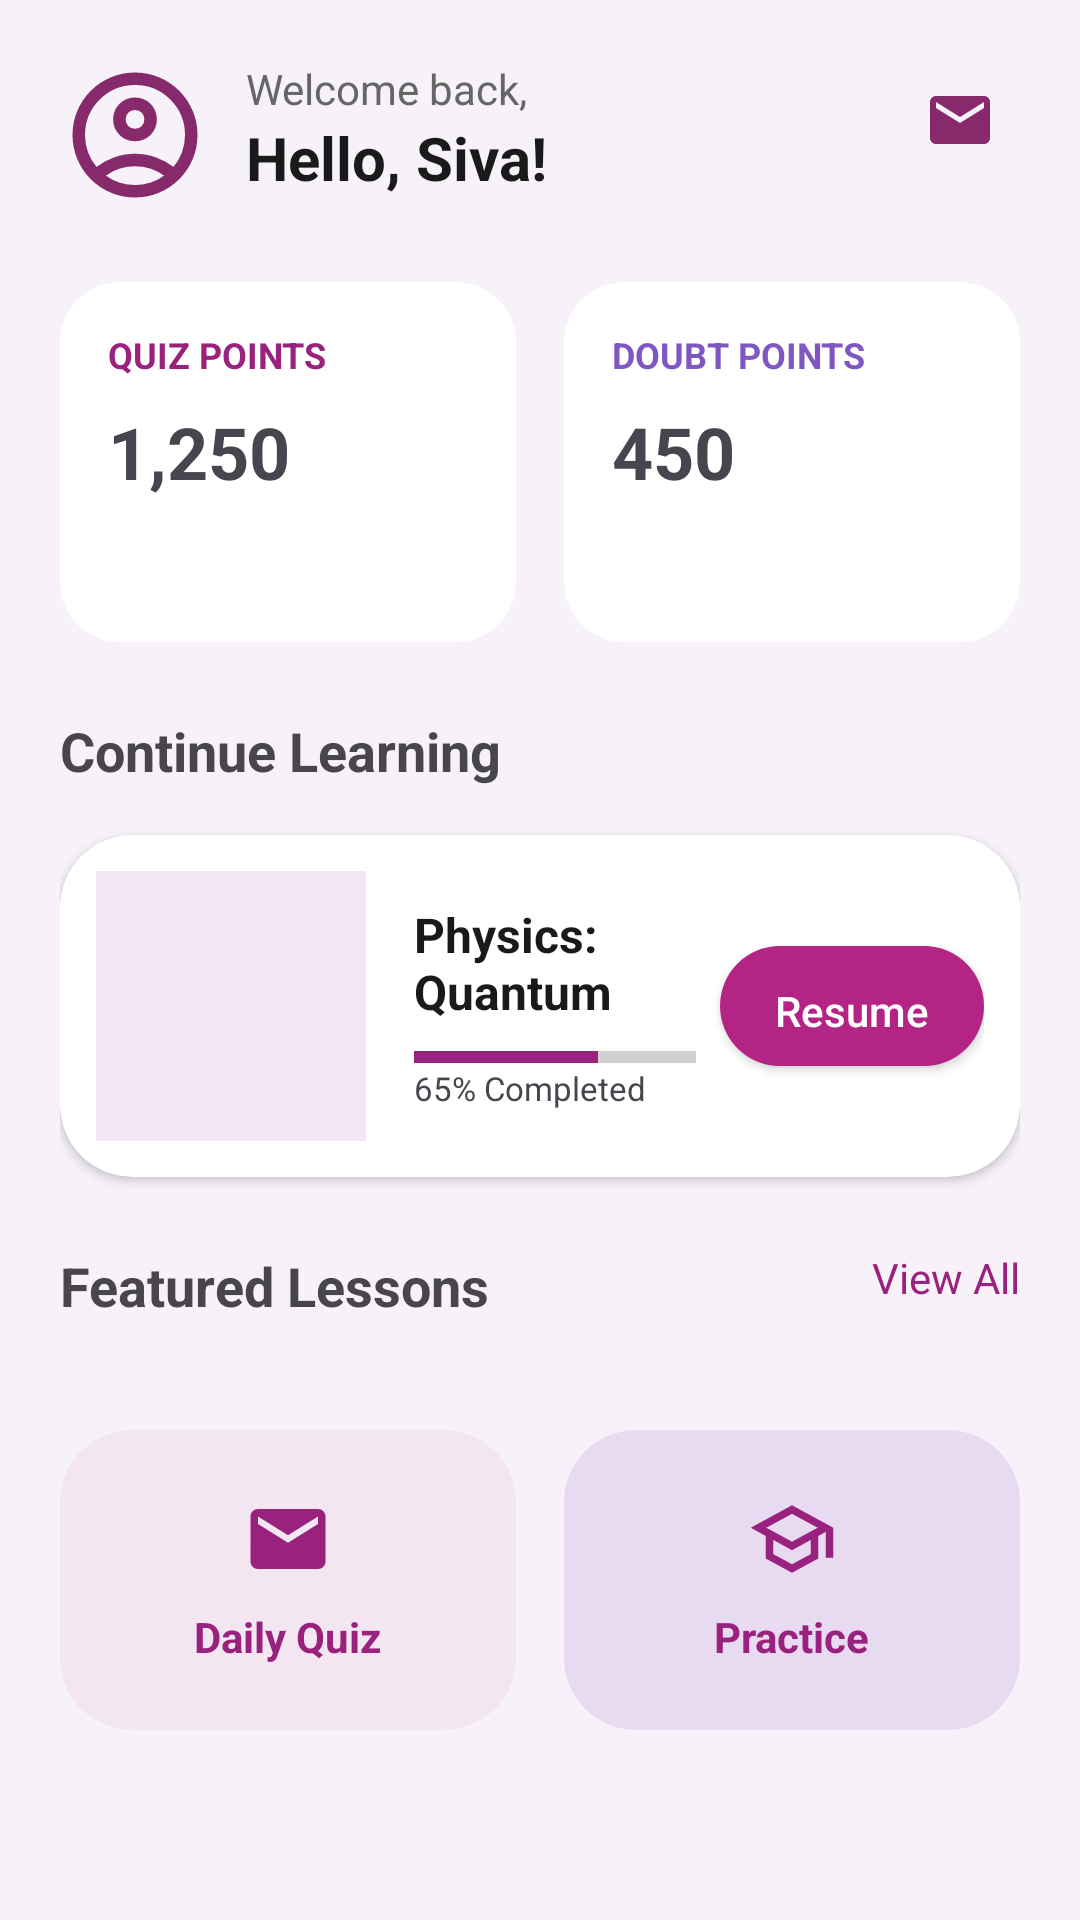

Where to tap for icons on this 1080×1920 app screen, as (x=x, y=y):
email: (x=960, y=120), (x=288, y=1539)
user: (x=135, y=135)
